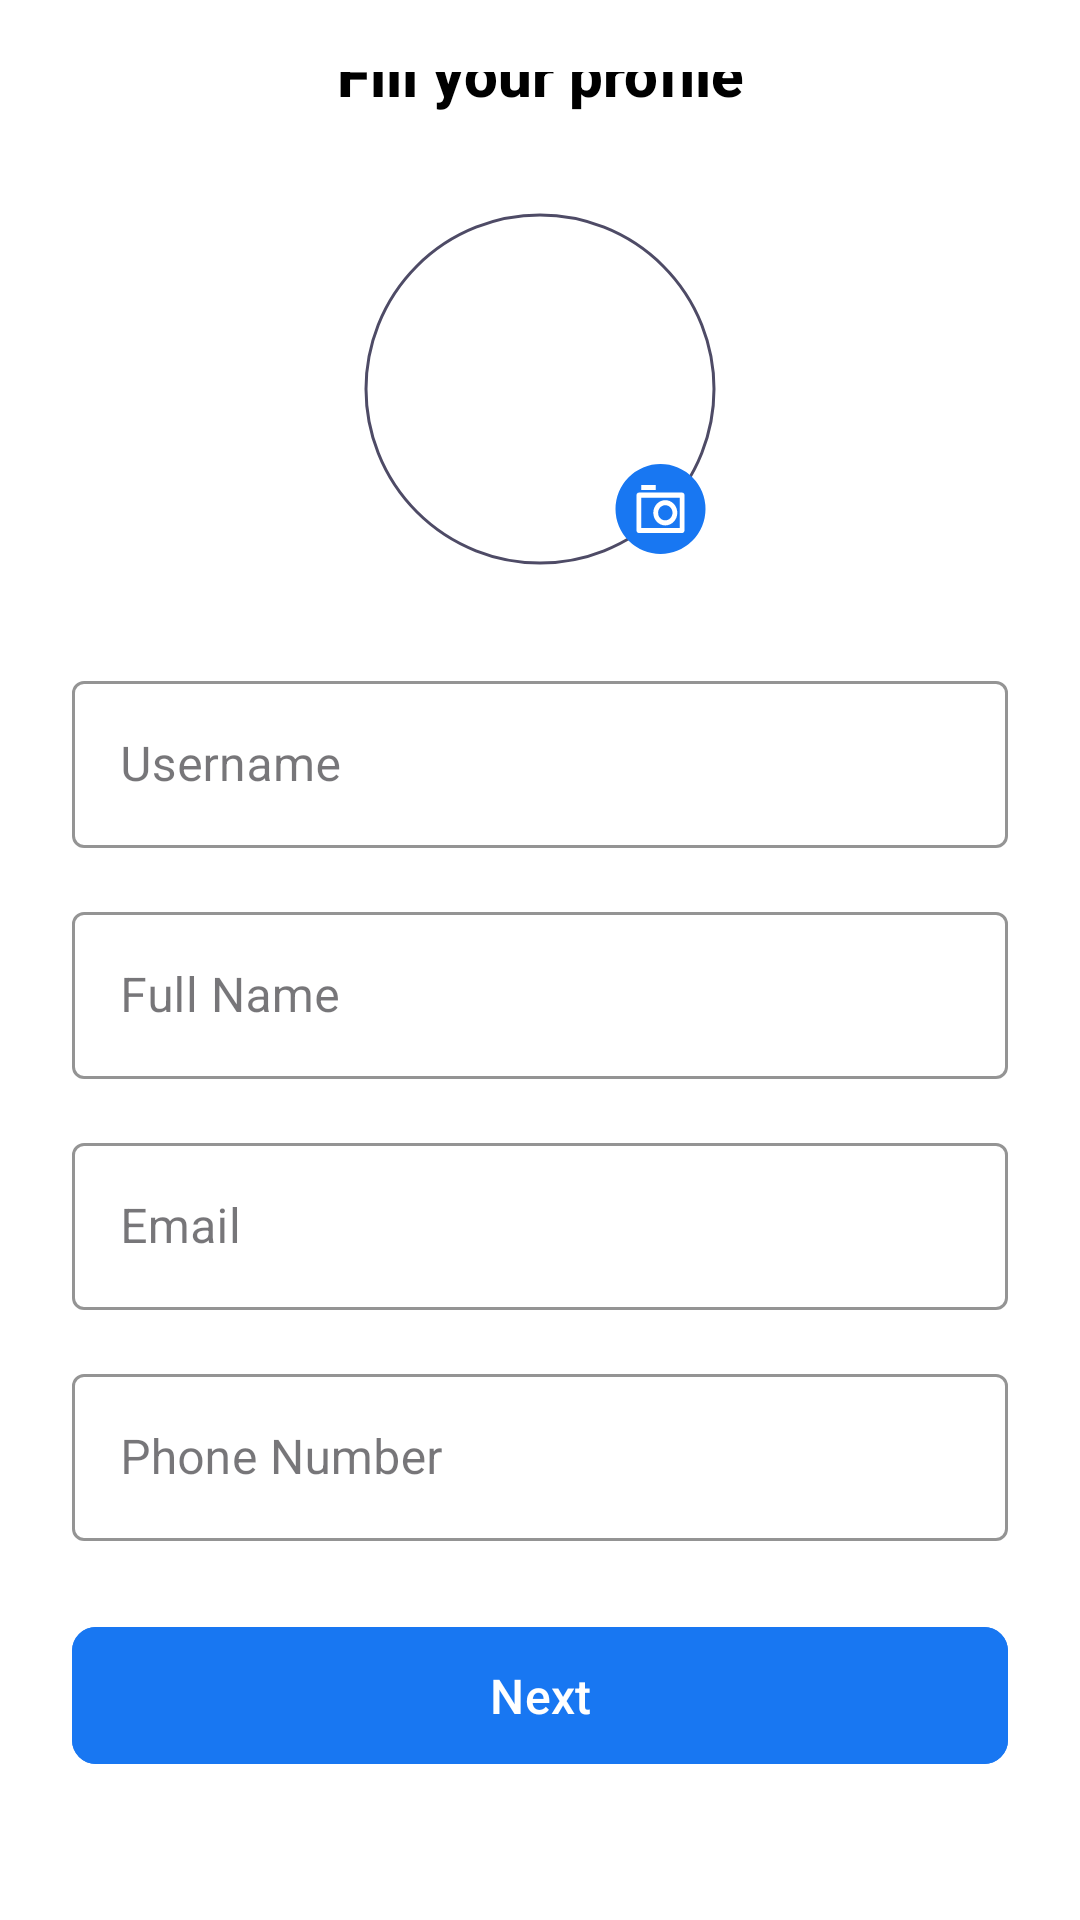

Screen size 1080px×1920px. Icon name, then its center in pixels as (x,y):
Add Picture: (653,501)
